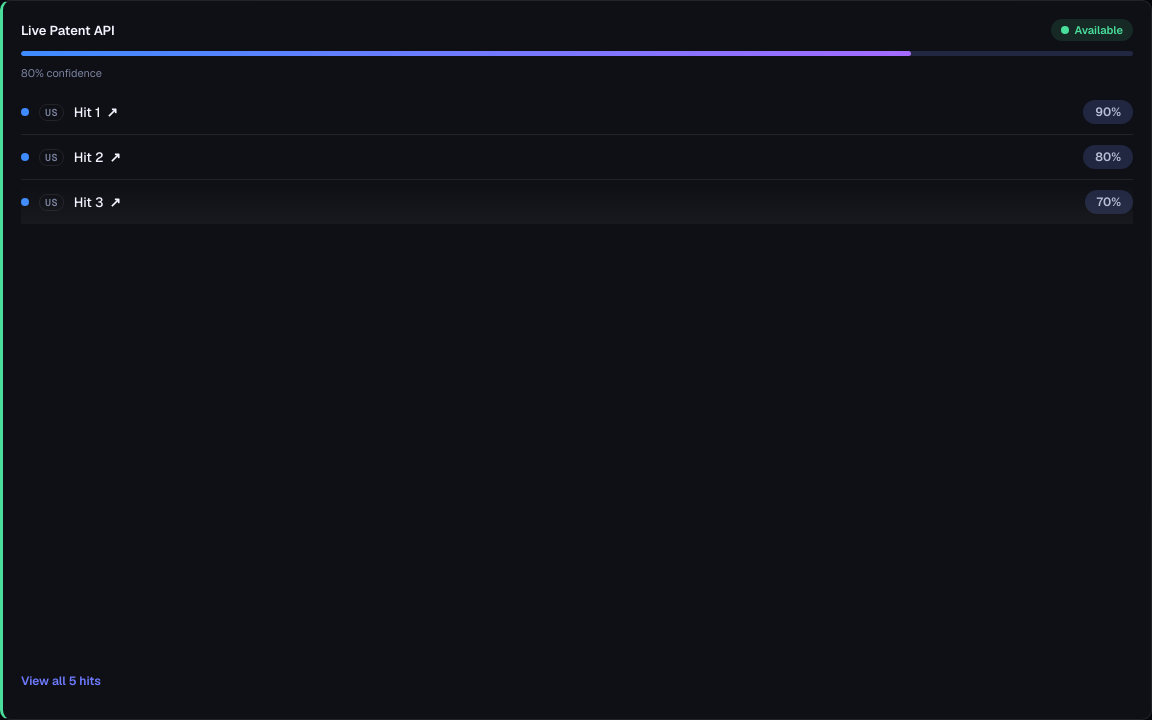
Test case: EvidenceSourceCard › previews 3 hits and opens the full list in a dialog via an accessible View all button
Expected: the text "Hit 1" is shown, top-left (74, 103), bottom-right (100, 121)
Expected: the text "Hit 3" is shown, top-left (74, 193), bottom-right (103, 211)
Click the button "View all 5 hits" at (61, 681), box top-left (21, 661), bottom-right (101, 701)
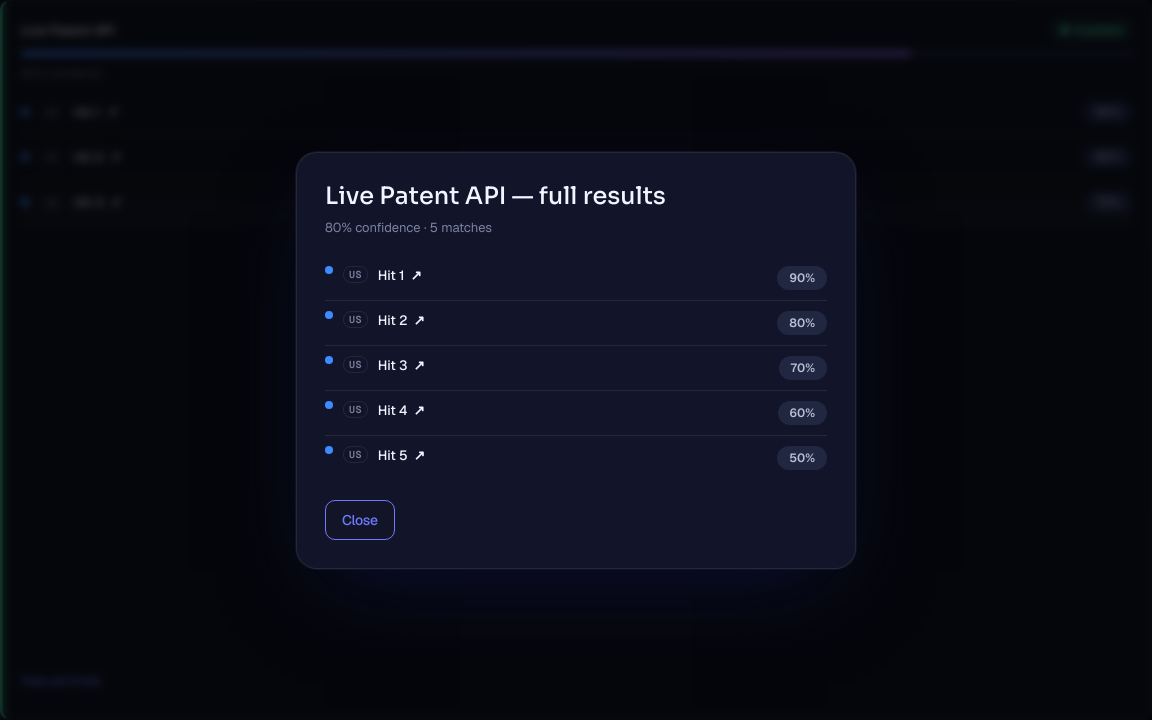
Result: the dialog is shown
Result: the text "Hit 4" is shown at top-left (378, 400), bottom-right (408, 418)
Result: the text "Hit 5" is shown at top-left (378, 446), bottom-right (408, 464)
